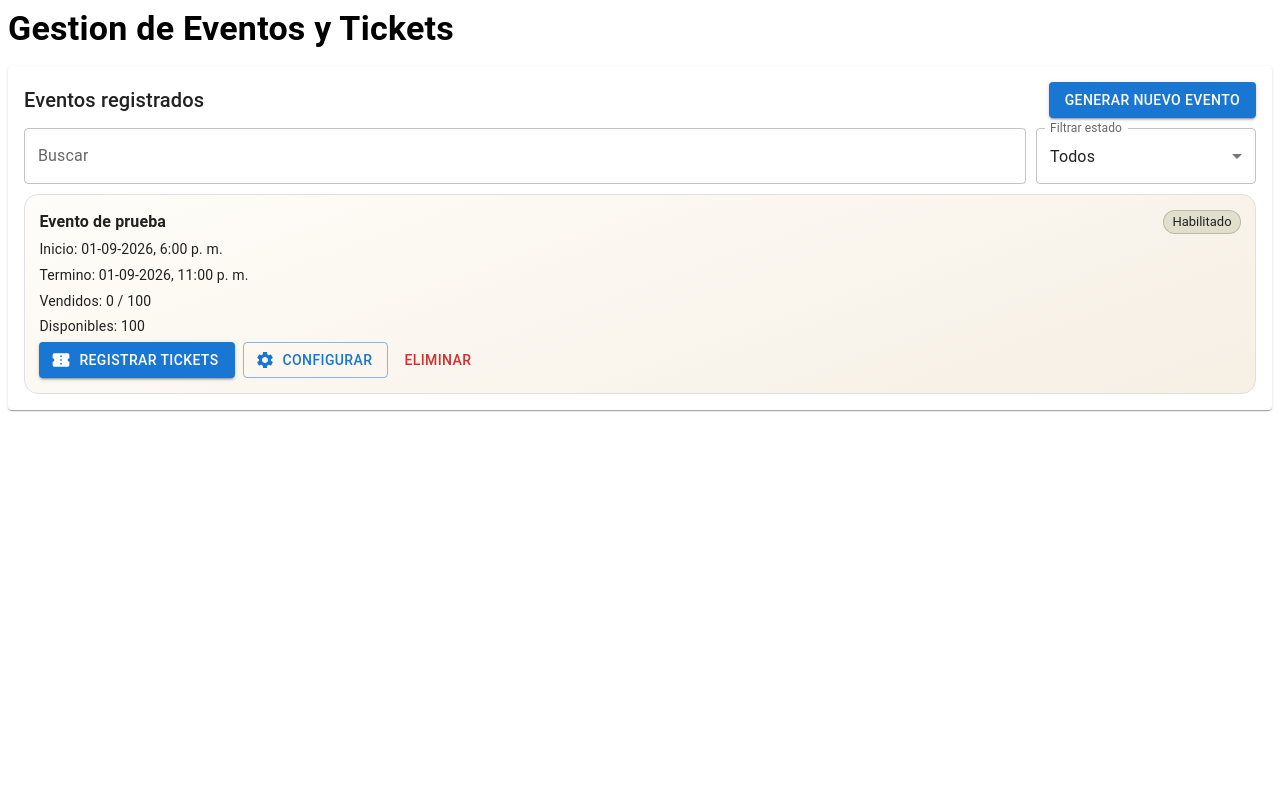
Test case: EventsTicketsView › el selector de medio de pago incluye MercadoPago (QR)
Click the button labelled "Registrar tickets".
click(137, 360)  # box [39, 342, 234, 378]
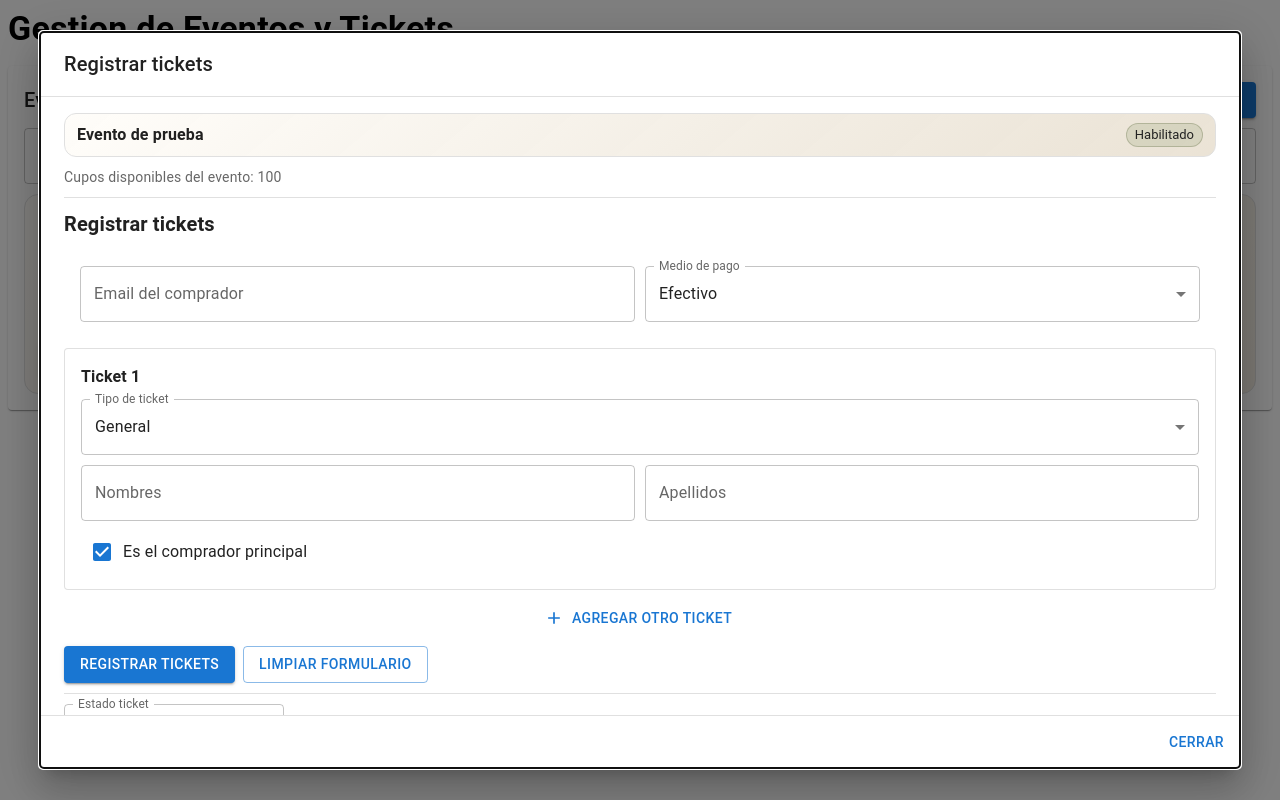
Press the mouse on the dropdown named "Medio de pago" at (688, 294), box [659, 284, 717, 303]
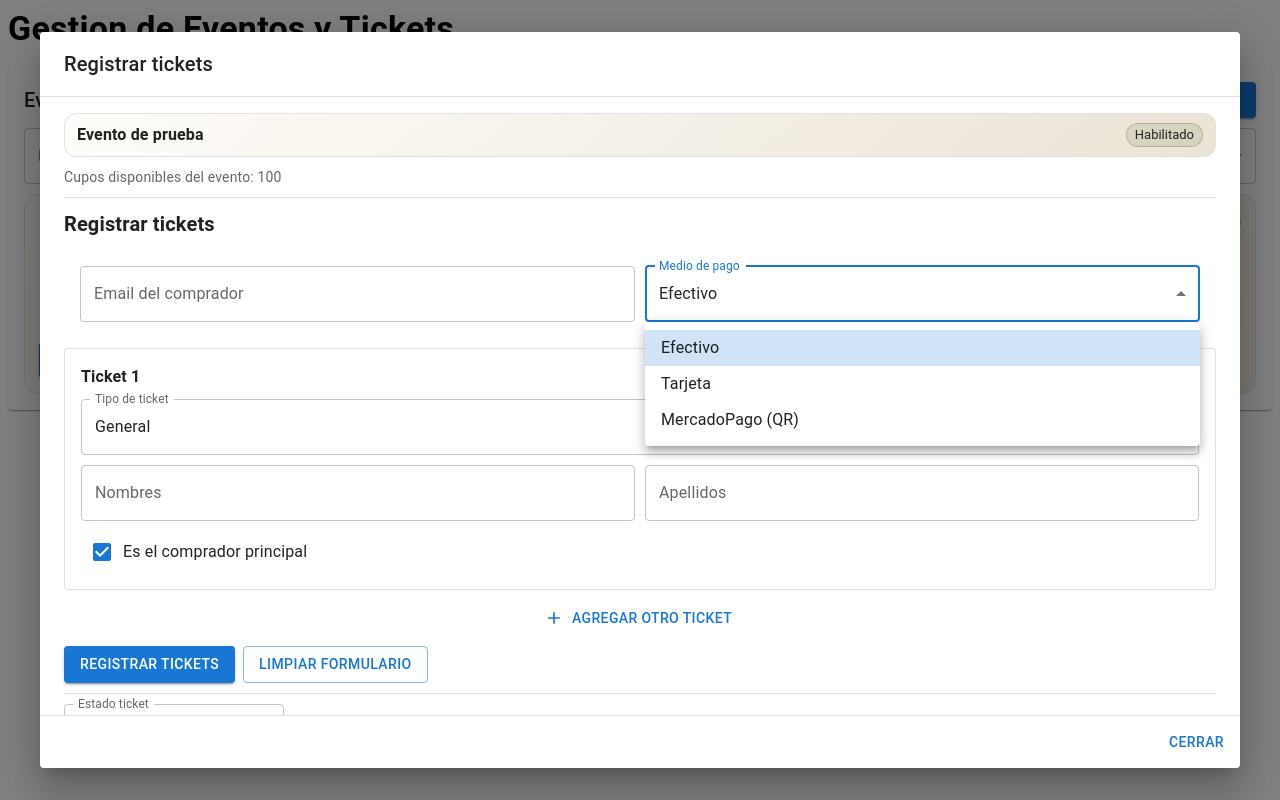
Expected: the option "MercadoPago (QR)" is shown, [661, 410, 799, 429]
